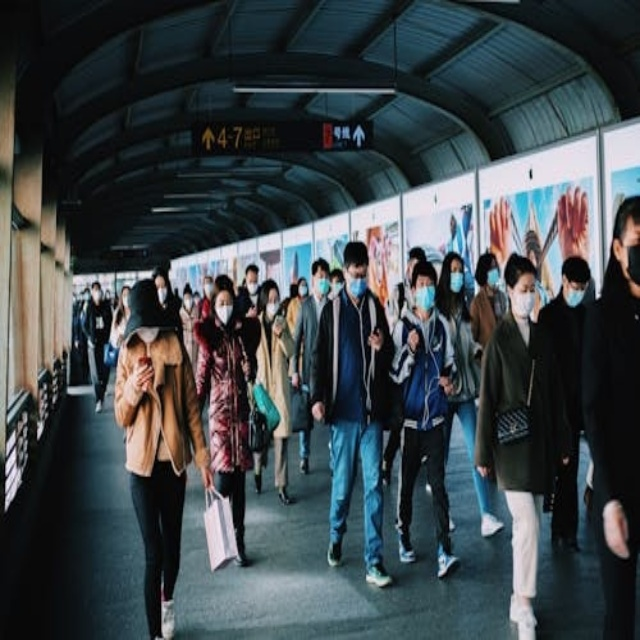Mascara: (511, 290, 536, 318), (624, 239, 640, 282), (414, 287, 436, 312), (346, 275, 368, 298), (564, 286, 587, 308), (216, 304, 234, 325), (449, 272, 464, 292), (315, 278, 330, 296), (487, 270, 500, 287), (266, 302, 279, 319), (330, 283, 343, 299), (404, 267, 413, 288), (157, 287, 168, 304), (248, 282, 260, 296), (204, 283, 214, 297), (92, 289, 102, 302), (298, 285, 308, 297), (184, 297, 193, 308), (123, 295, 131, 307)
Sin_guantes: (593, 498, 635, 563)
